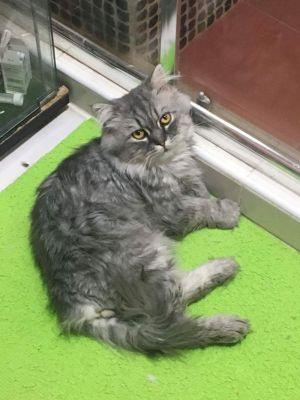persian: (89, 61, 205, 176)
